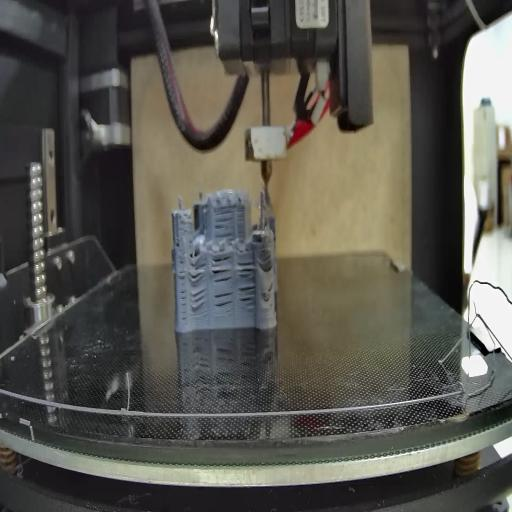cracks: (214, 202, 236, 240), (211, 253, 234, 284), (238, 284, 256, 311), (213, 290, 233, 314), (189, 260, 207, 284), (190, 288, 206, 315), (237, 258, 254, 283), (180, 262, 187, 322), (265, 250, 276, 273), (265, 281, 276, 304), (175, 234, 180, 254)
